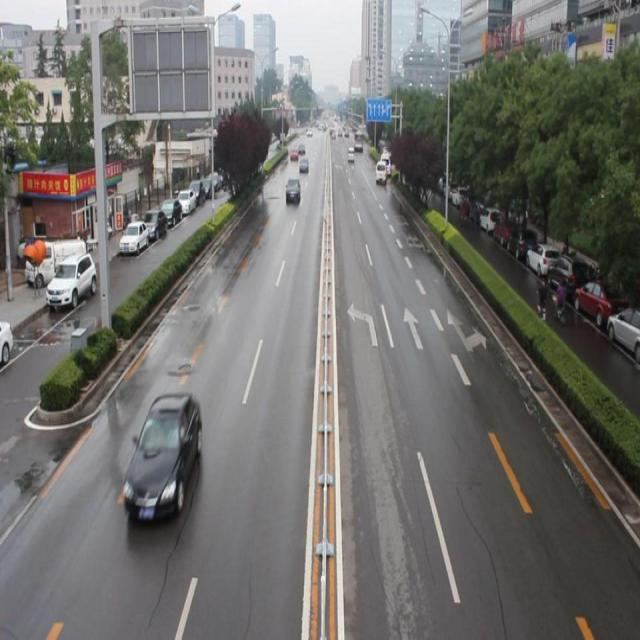car: (121, 392, 204, 524), (284, 176, 300, 203), (298, 156, 309, 173)
truck: (373, 160, 387, 186)
